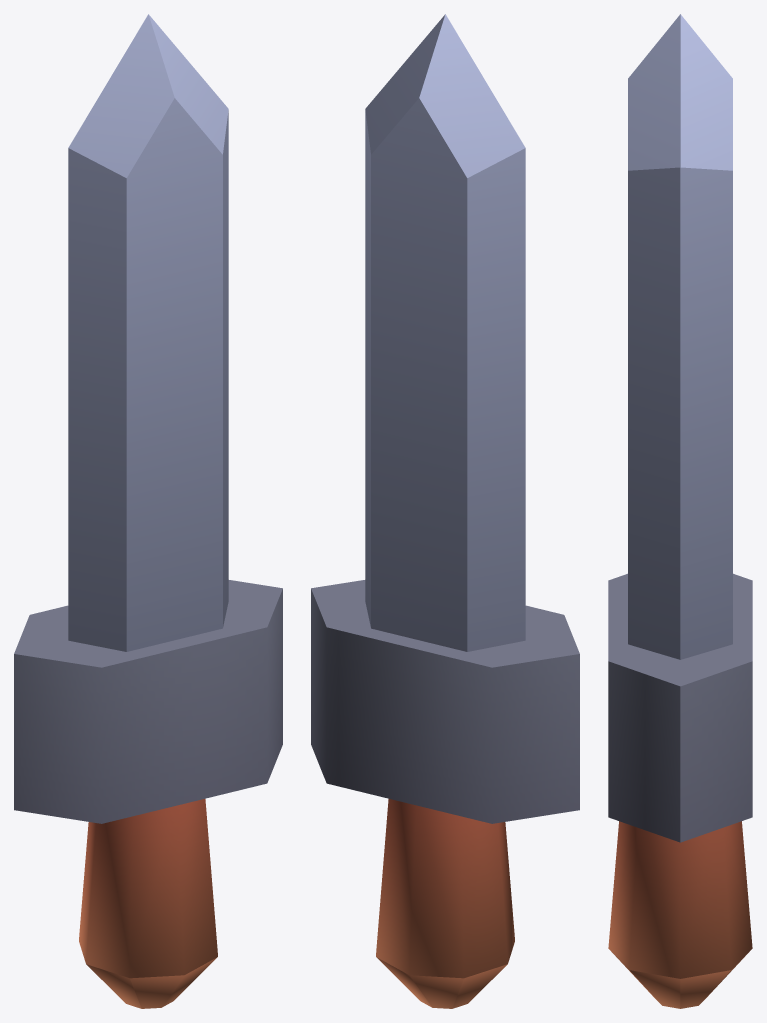
Rendered from sword.glb.
3 renders of one model, left to right at view 1: azimuth 30°, elevation 25°; view 2: azimuth 150°, elevation 25°; view 3: azimuth 270°, elevation 25°, orthographic.
Visible parts, largest first — view 1: sword; view 2: sword; view 3: sword.
Boxes of the visible parts, x1,y1,x2,y2 form: sword: [14, 14, 282, 1008]; sword: [311, 14, 579, 1008]; sword: [608, 14, 752, 1008].
Bounding box in the file's own units: 0.286 × 1 × 0.1328.
Materials: 1 (1 with a texture image).
